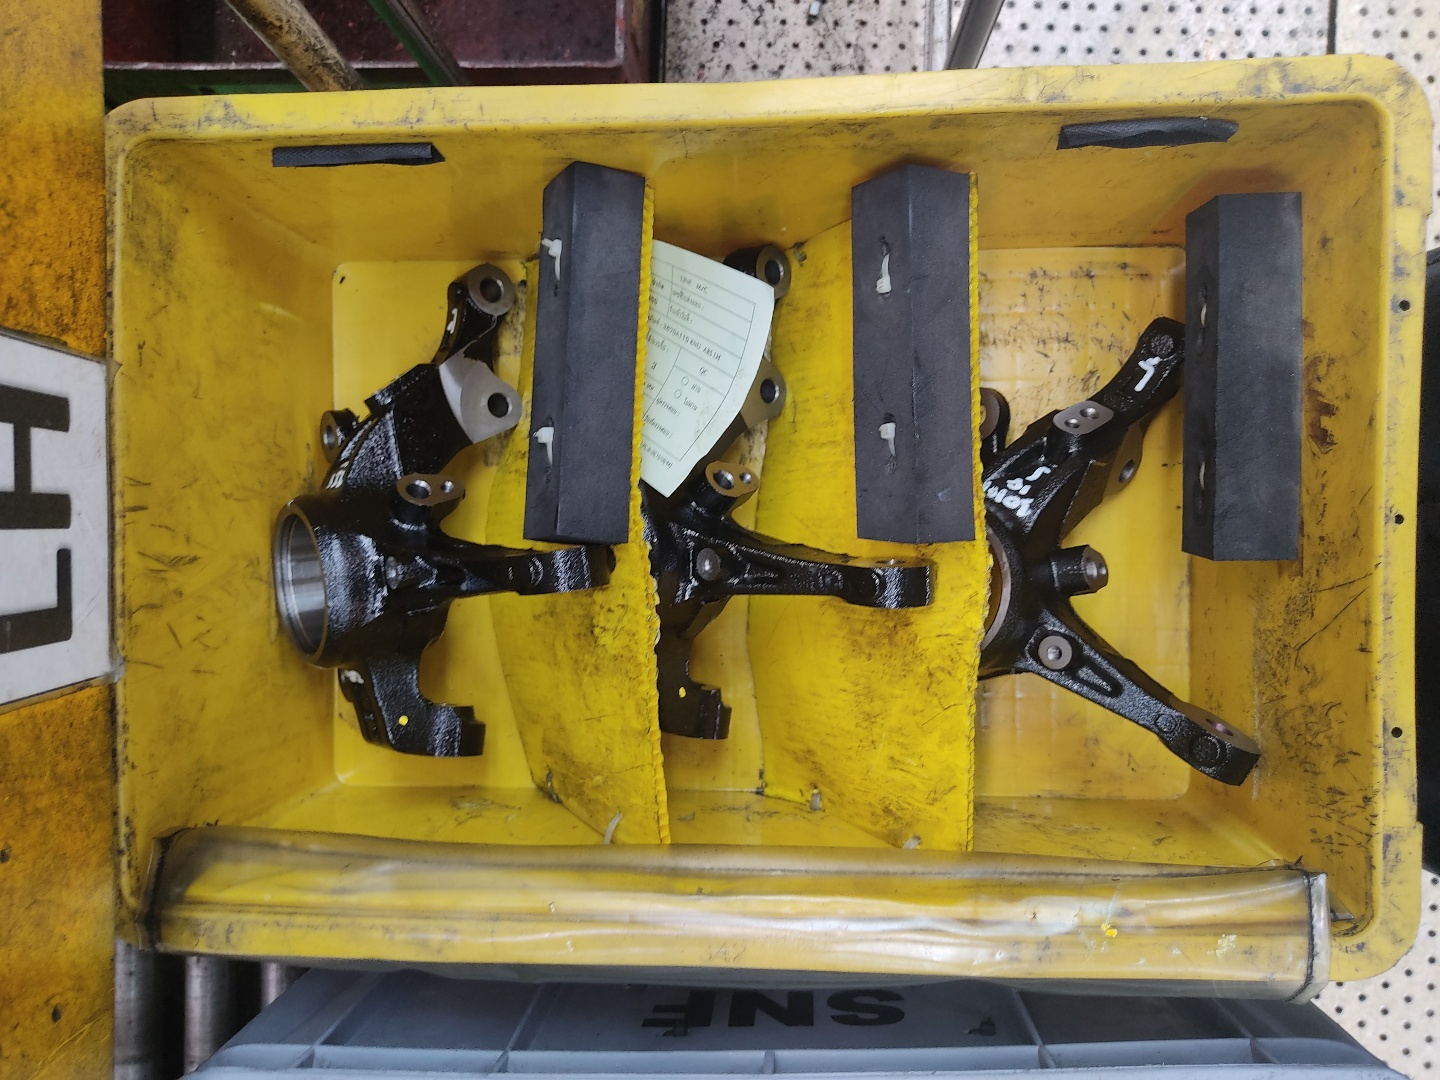abs-lh: (261, 252, 625, 766), (633, 233, 943, 752), (962, 278, 1271, 799)
